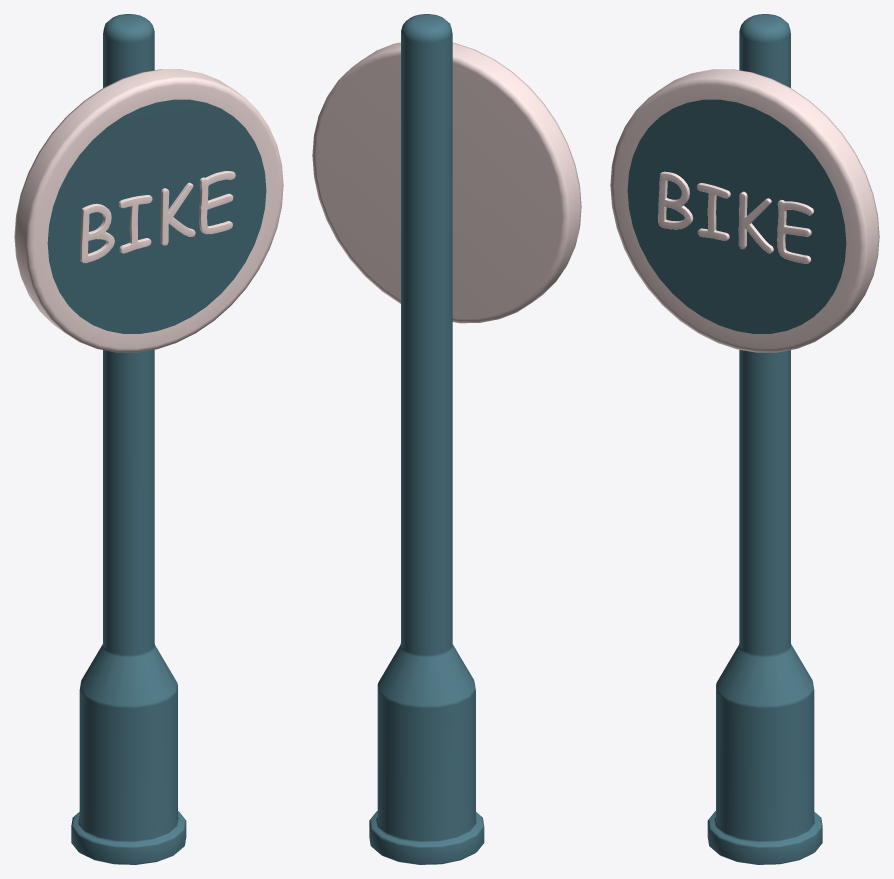
The model's file is City_6_Bike_Sign_1.glb.
3 renders of one model, left to right at view 1: azimuth 30°, elevation 25°; view 2: azimuth 150°, elevation 25°; view 3: azimuth 330°, elevation 25°, orthographic.
Visible parts, largest first — view 1: City_6_Bike_Sign_1; view 2: City_6_Bike_Sign_1; view 3: City_6_Bike_Sign_1.
Boxes of the visible parts, bbox=[...] form: City_6_Bike_Sign_1: bbox=[14, 14, 283, 864]; City_6_Bike_Sign_1: bbox=[312, 14, 581, 864]; City_6_Bike_Sign_1: bbox=[610, 14, 879, 864].
Size of the model in its own units: 1.16 by 3.54 by 0.4634.
Materials: 1 (1 with a texture image).
